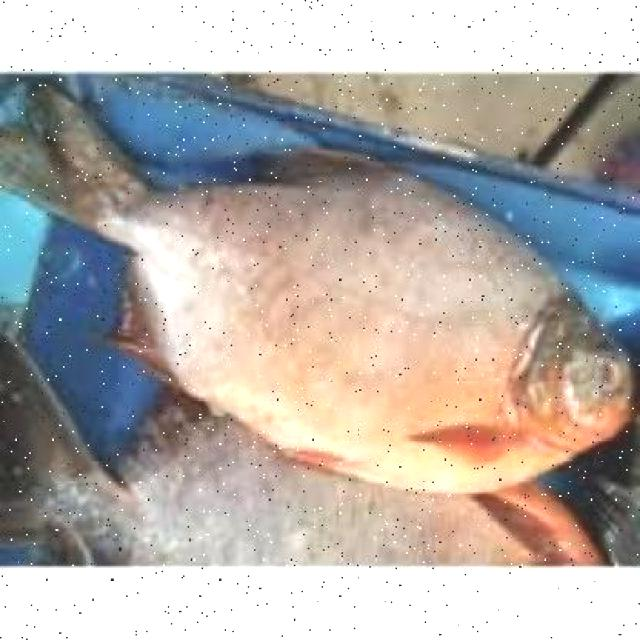ikan-pacu: (77, 132, 637, 480)
